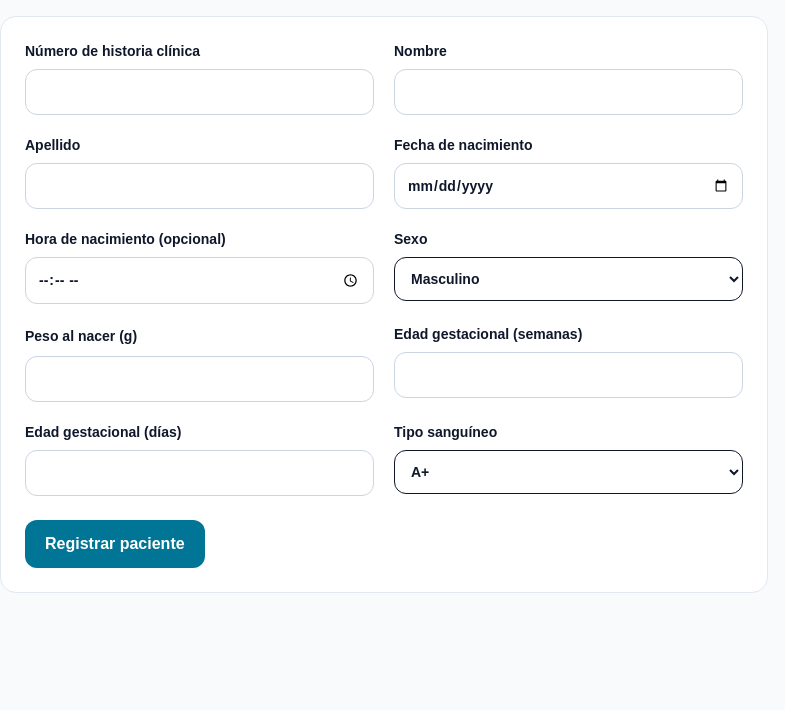
Patients UI › maps duplicate record 409
Type "RN-2026-000001" into the field labelled "Número de historia clínica" at (200, 92), box x1=25 y1=69 x2=374 y2=115
Type "Mateo" into the field labelled "Nombre" at (568, 92), box x1=394 y1=69 x2=743 y2=115
Type "Perez" into the field labelled "Apellido" at (200, 186), box x1=25 y1=163 x2=374 y2=209
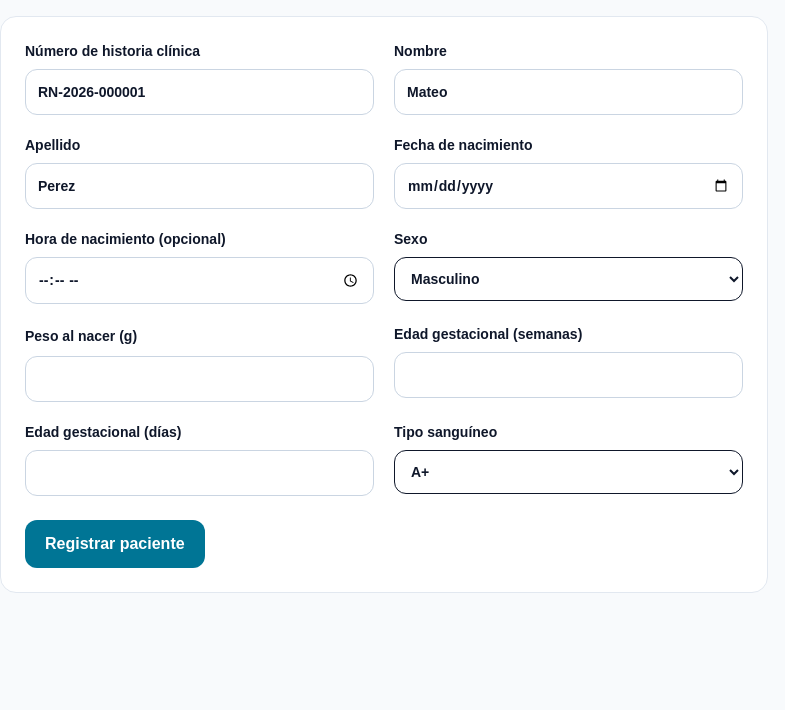
Type "2026-08-20" into the date field labelled "Fecha de nacimiento" at (568, 186), box x1=394 y1=163 x2=743 y2=209
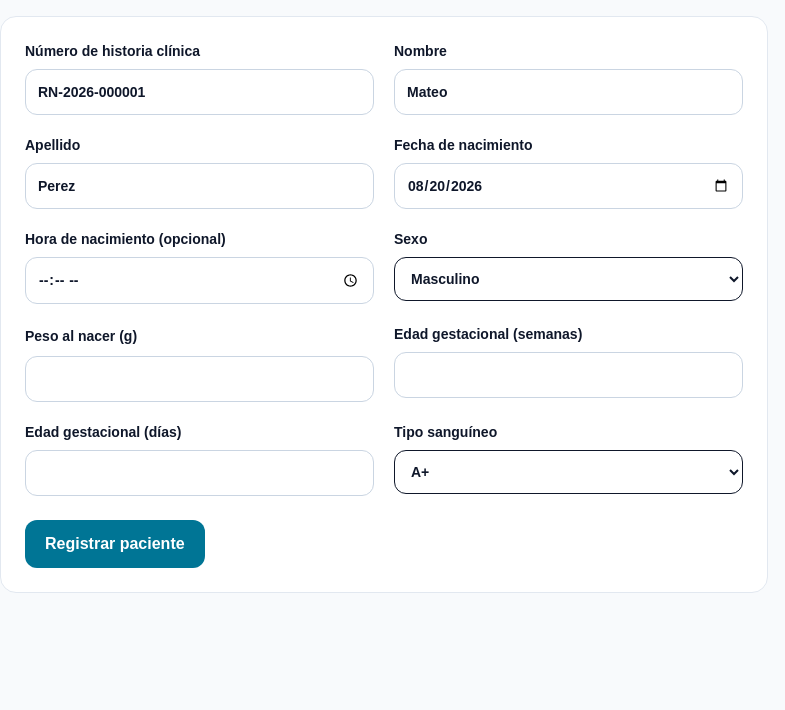
Type "2450" into the number field labelled "Peso al nacer (g)" at (200, 379), box x1=25 y1=356 x2=374 y2=402
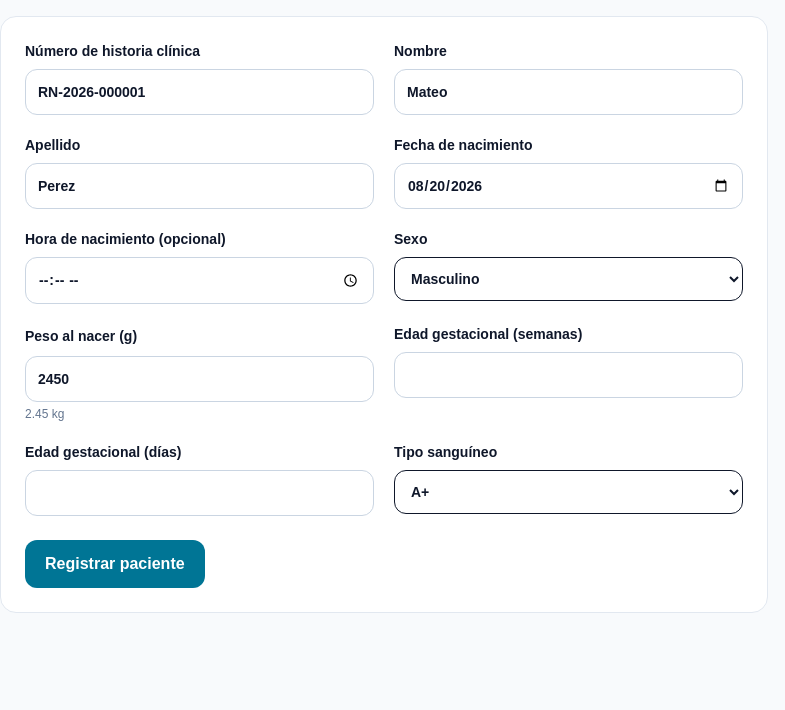
Type "36" into the number field labelled "Edad gestacional (semanas)" at (568, 375), box x1=394 y1=352 x2=743 y2=398
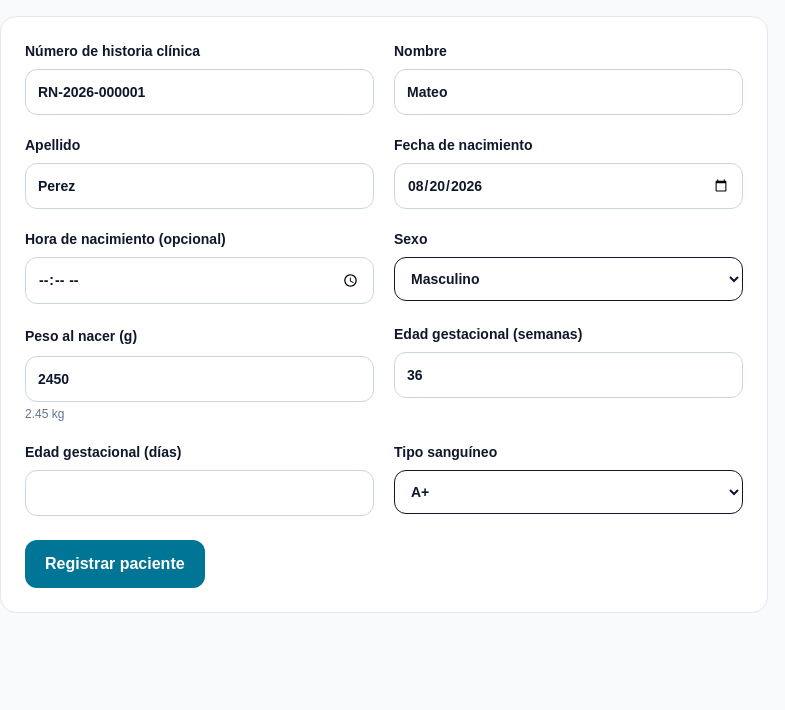
Type "4" into the number field labelled "Edad gestacional (días)" at (200, 493), box x1=25 y1=470 x2=374 y2=516
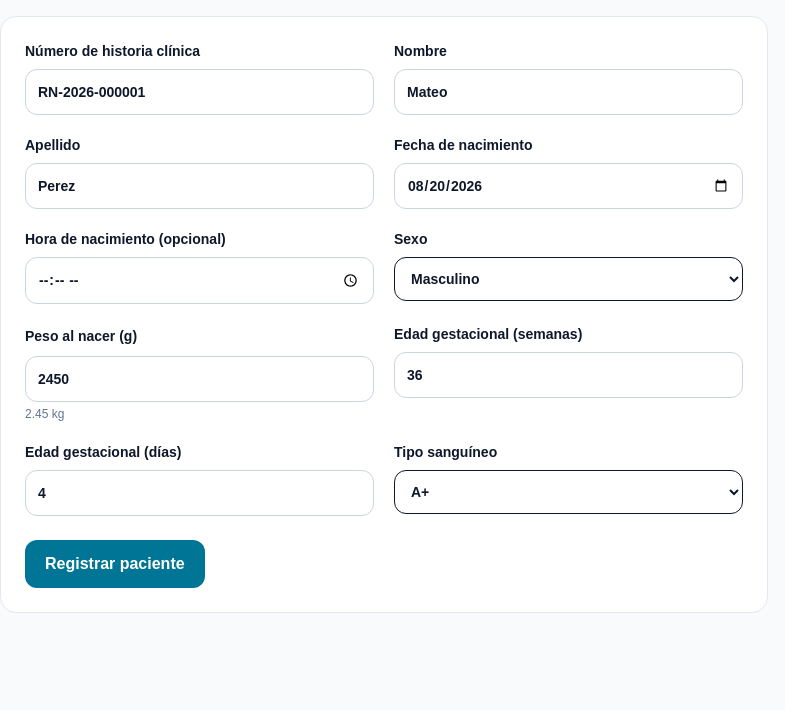
Click the button "Registrar paciente" at (115, 564), box x1=25 y1=540 x2=205 y2=588
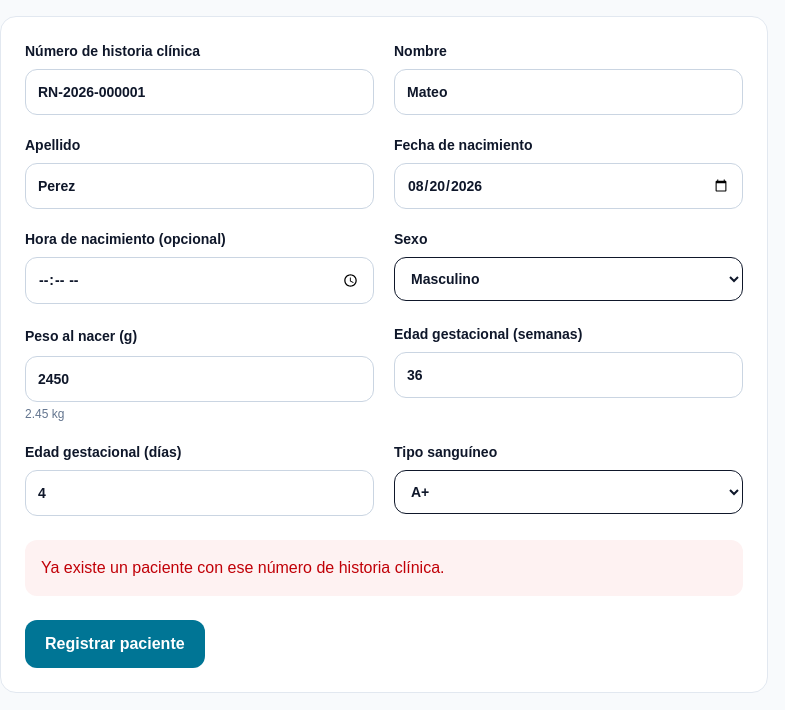
expect the message shows "Ya existe un paciente": met, box x1=41 y1=559 x2=444 y2=576
